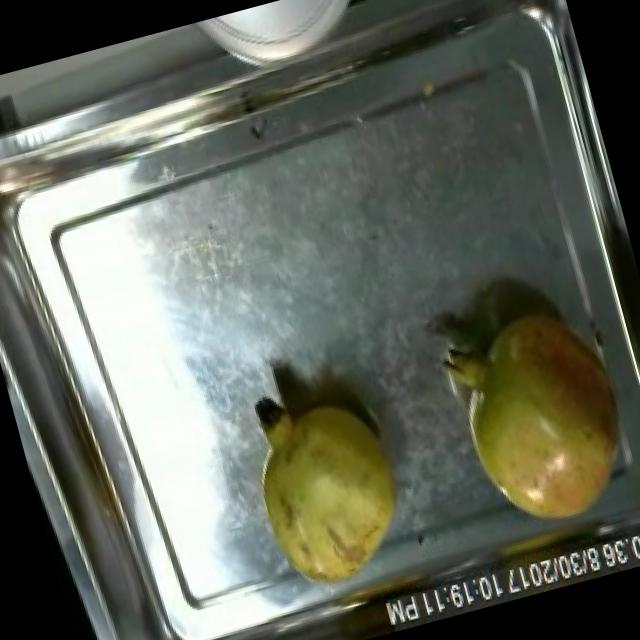fruit: (431, 288, 640, 552), (229, 366, 430, 606)
